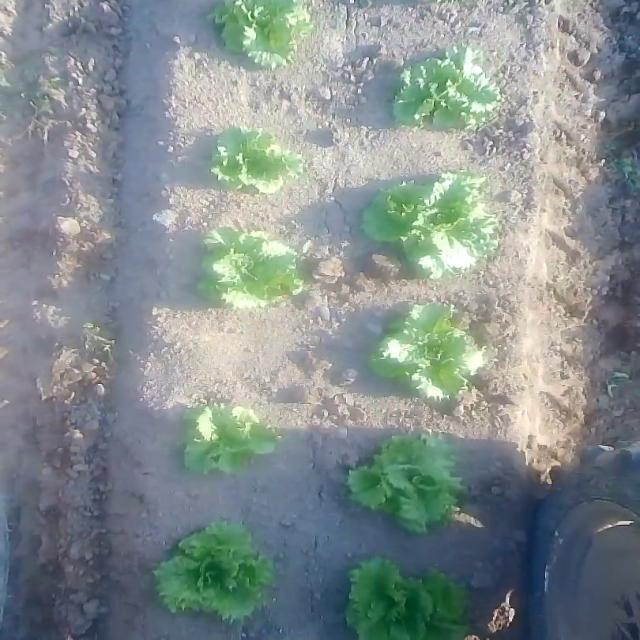Lettuce-Ready-to-Harvest: (154, 520, 278, 623), (372, 178, 509, 269), (380, 300, 482, 408), (354, 438, 469, 529), (347, 557, 472, 640), (383, 53, 504, 132), (199, 227, 304, 300), (206, 120, 303, 198), (182, 399, 279, 474), (231, 13, 309, 64)
